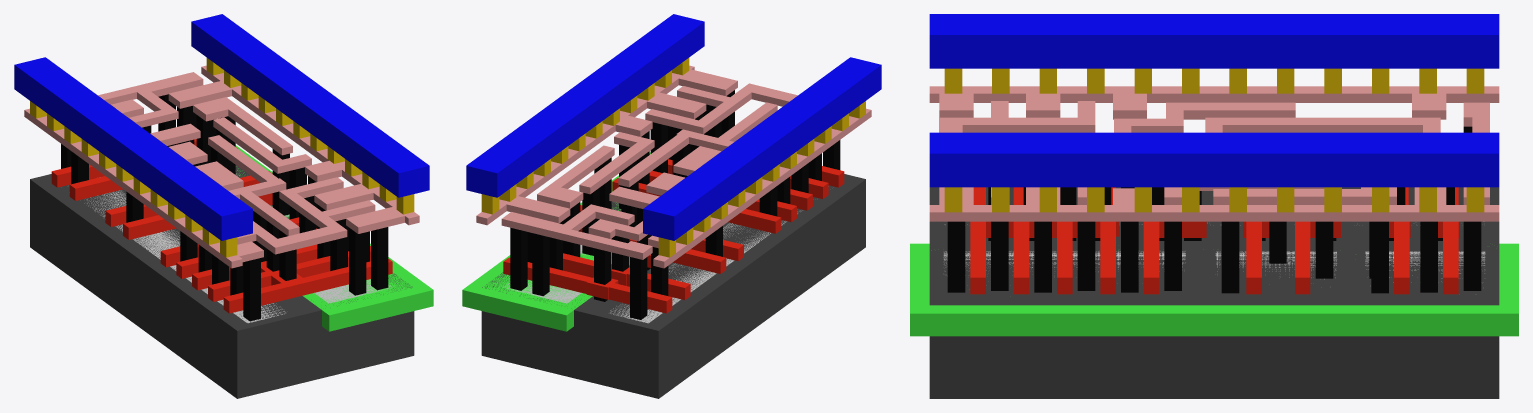
The model's file is sky130_fd_sc_hd__mux2_4.obj.
The picture shows the model from 3 angles, left to right: view 1: azimuth 30°, elevation 25°; view 2: azimuth 150°, elevation 25°; view 3: azimuth 270°, elevation 25°; orthographic projection. The views are drawn at different scales.
Visible parts, largest first — view 1: subs, metal1, li, licon, poly, mcon, nwell, diff, tap; view 2: subs, metal1, li, licon, poly, mcon, nwell, diff, tap; view 3: metal1, subs, li, nwell, licon, poly, mcon, tap.
Part boxes in pixels (bbox=[...]): subs: bbox=[30, 165, 414, 398]; metal1: bbox=[14, 14, 429, 240]; li: bbox=[24, 65, 419, 268]; licon: bbox=[61, 94, 388, 321]; poly: bbox=[51, 139, 392, 313]; mcon: bbox=[30, 58, 414, 257]; nwell: bbox=[235, 145, 433, 331]; diff: bbox=[84, 190, 285, 323]; tap: bbox=[236, 173, 391, 303]; subs: bbox=[481, 174, 865, 398]; metal1: bbox=[466, 14, 881, 240]; li: bbox=[476, 65, 871, 268]; licon: bbox=[510, 90, 840, 319]; poly: bbox=[503, 159, 844, 313]; mcon: bbox=[481, 58, 865, 257]; nwell: bbox=[462, 152, 650, 331]; diff: bbox=[610, 210, 802, 323]; tap: bbox=[503, 245, 587, 303]; metal1: bbox=[929, 14, 1499, 187]; subs: bbox=[929, 187, 1499, 398]; li: bbox=[929, 86, 1499, 221]; nwell: bbox=[910, 243, 1518, 336]; licon: bbox=[947, 126, 1481, 293]; poly: bbox=[970, 187, 1459, 294]; mcon: bbox=[944, 68, 1484, 212]; tap: bbox=[943, 251, 1485, 282].
Size of the model in its own units: 3.2 by 2.74 by 5.9.
